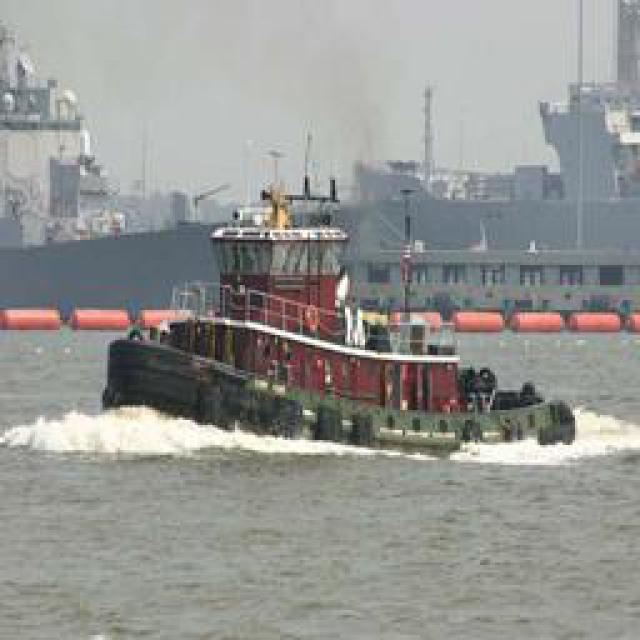Ship: (102, 164, 602, 447)
